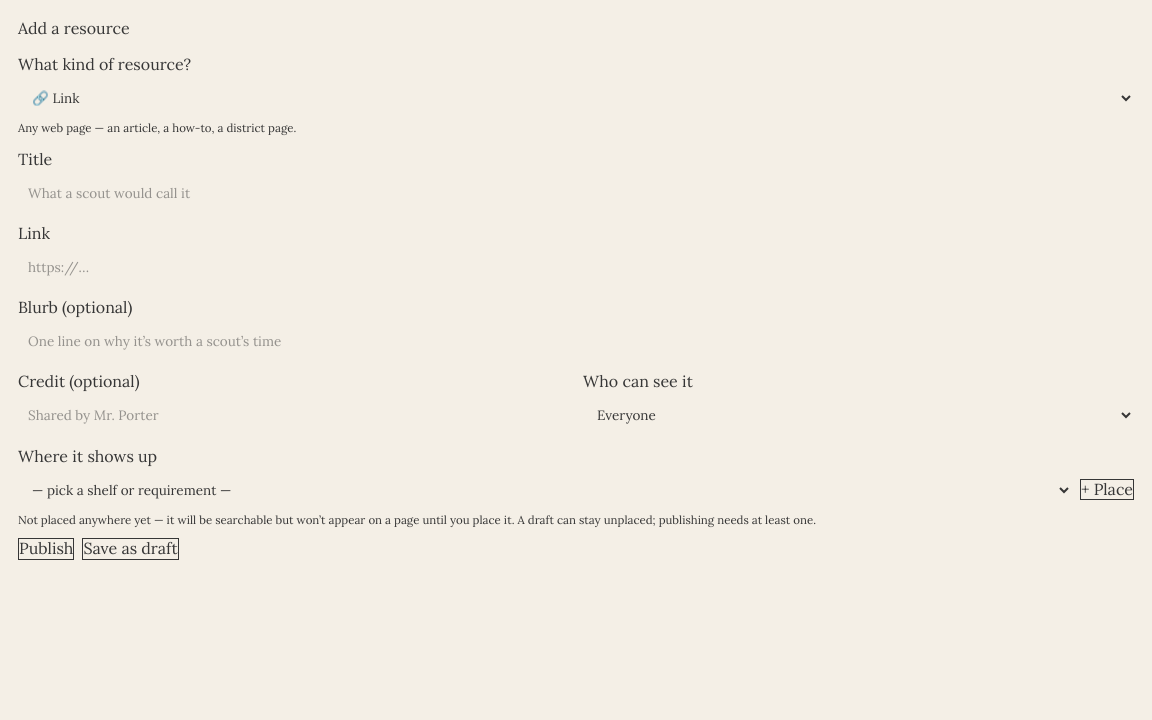
Add a resource — publishing needs a placement › refuses to publish when nothing has been placed, and says why
The width and height of the screenshot is (1152, 720).
Click the button "Publish": point(46, 549) [18,538,74,560]
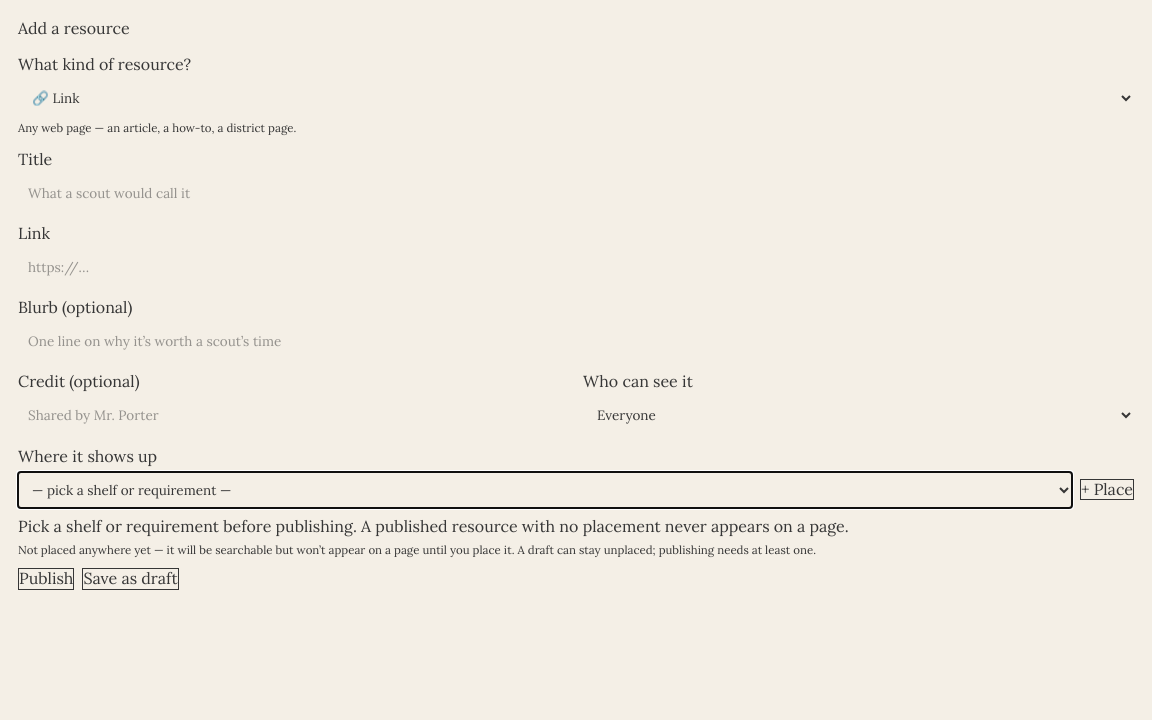
Now the message shows "Pick a shelf or requirement", box [18,516,849,536]
